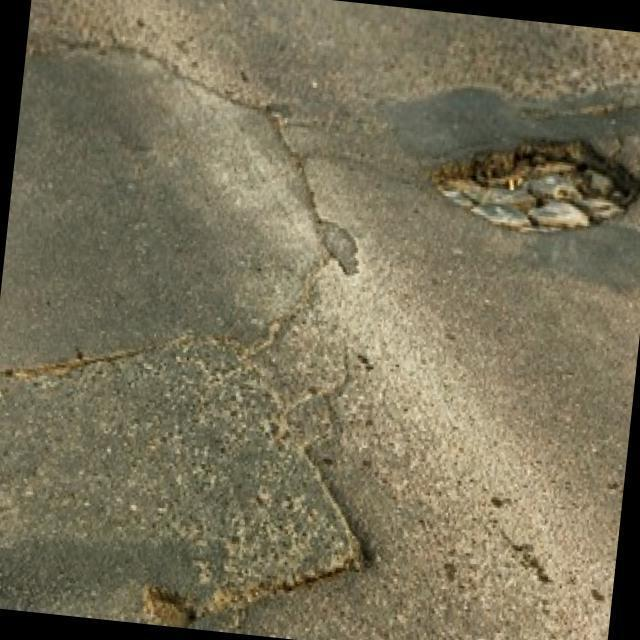pothole: (433, 119, 640, 249)
